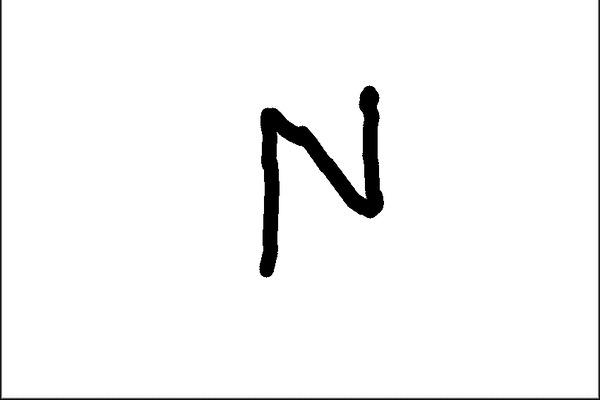N: (254, 79, 389, 281)
